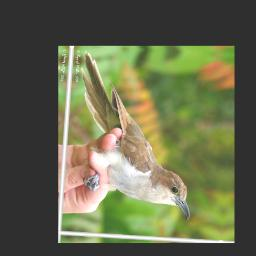Cuckoo: (71, 51, 202, 221)
